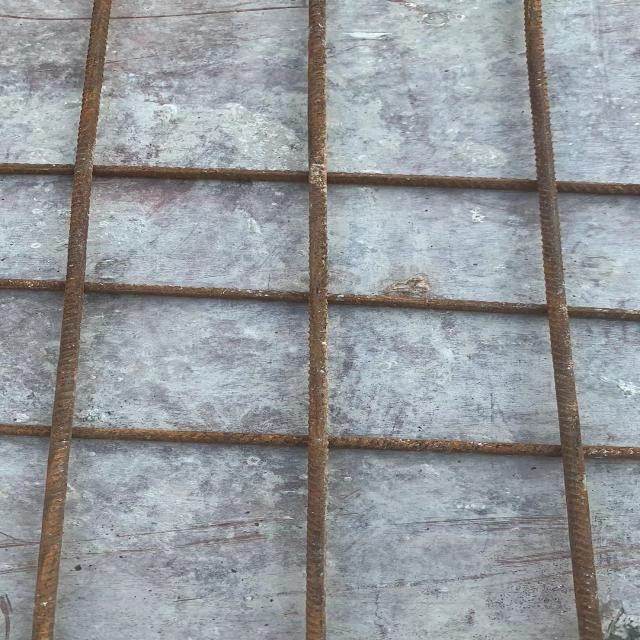ribbed bar: (519, 0, 607, 639), (30, 0, 111, 639), (0, 277, 639, 323), (0, 423, 639, 461), (0, 161, 639, 196), (303, 0, 328, 639)
